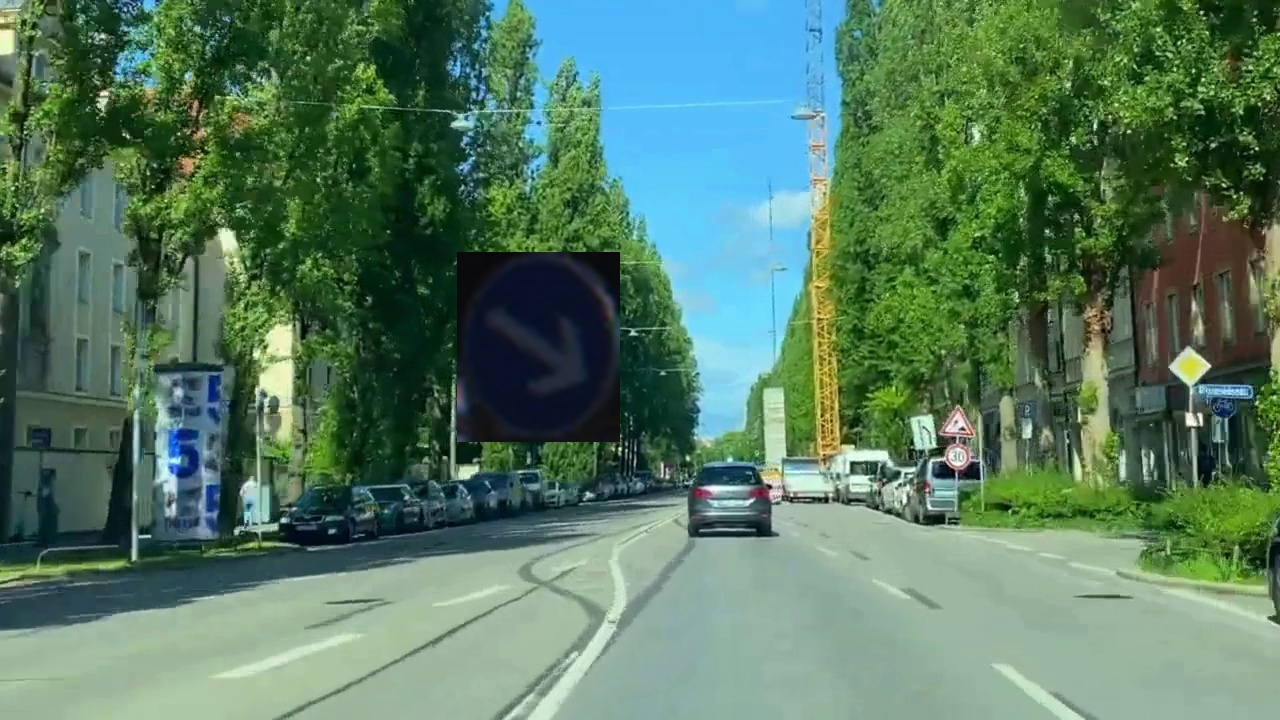Keep right: (457, 252, 620, 442)
